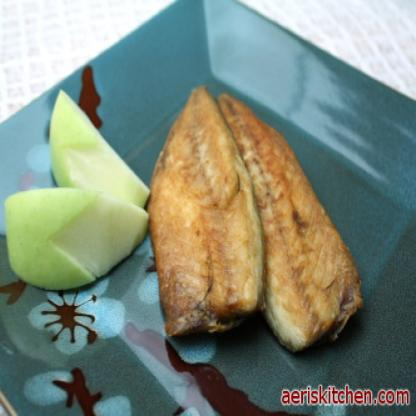Peixe: (132, 26, 364, 358)
